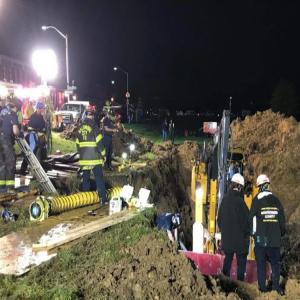blue: (35, 100, 45, 115)
red: (86, 105, 96, 120)
white: (257, 174, 271, 194), (231, 174, 245, 192)
